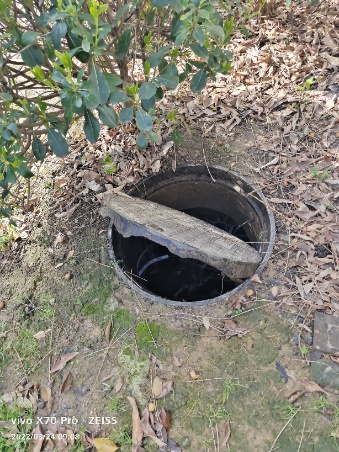broke: (95, 162, 277, 308)
